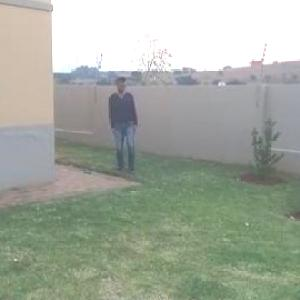follow: (104, 74, 139, 174)
